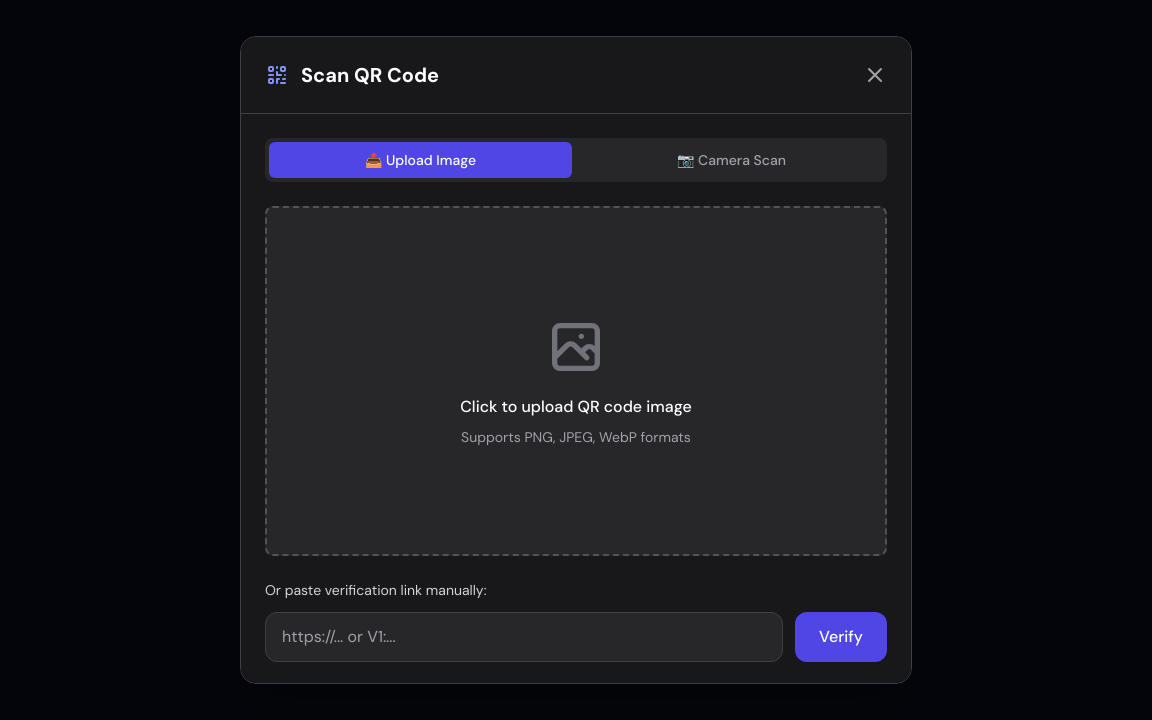
Test: QRScanner › rejects legacy certificate-id links
The image size is (1152, 720).
Type "https://example.com/verify?cert=123" into the field with placeholder "https://... or V1:...".
click(524, 637); type("https://example.com/verify?cert=123")  # box 265,612 -> 783,662
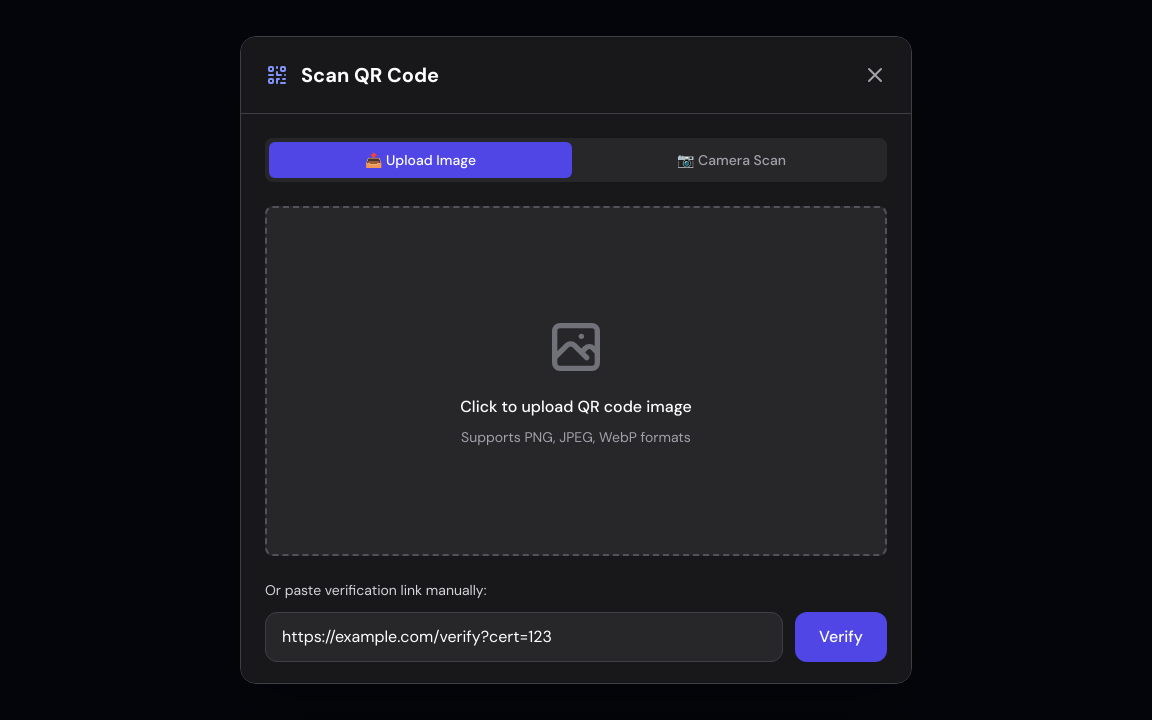
Click the button "Verify".
click(841, 637)  # box 795,612 -> 887,662
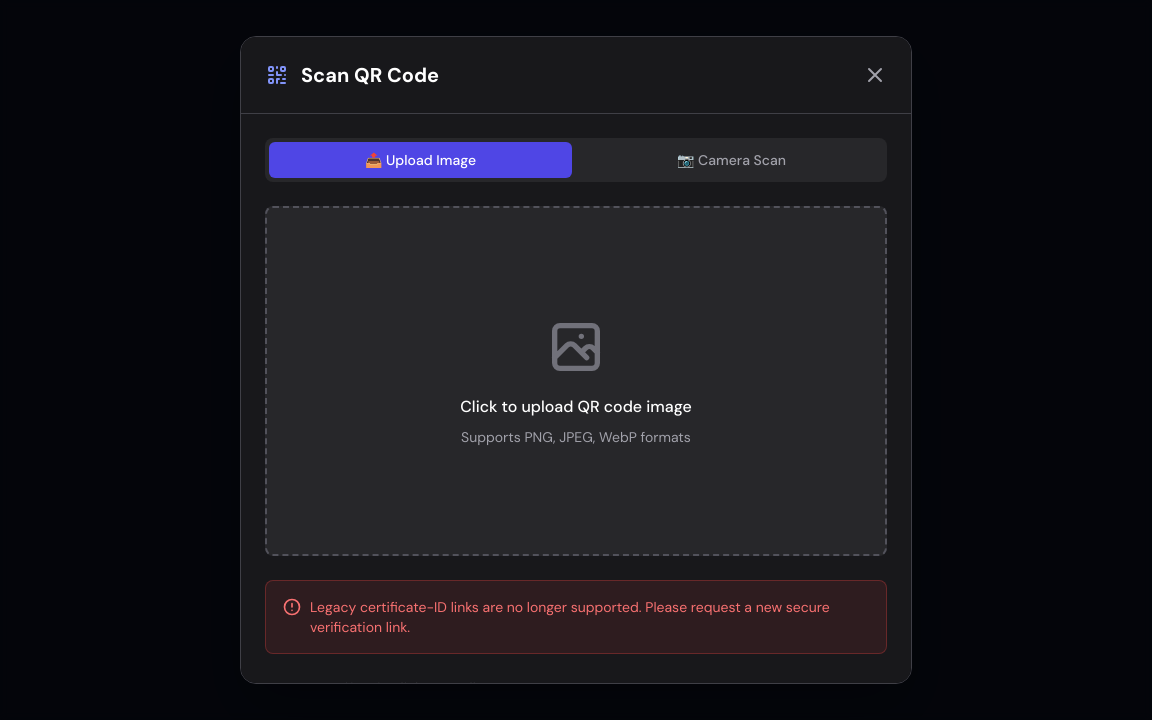
Check: the text "Legacy certificate-ID links are no longer supported. Please request a new secure verification link." is shown, box 310,598 -> 830,636
